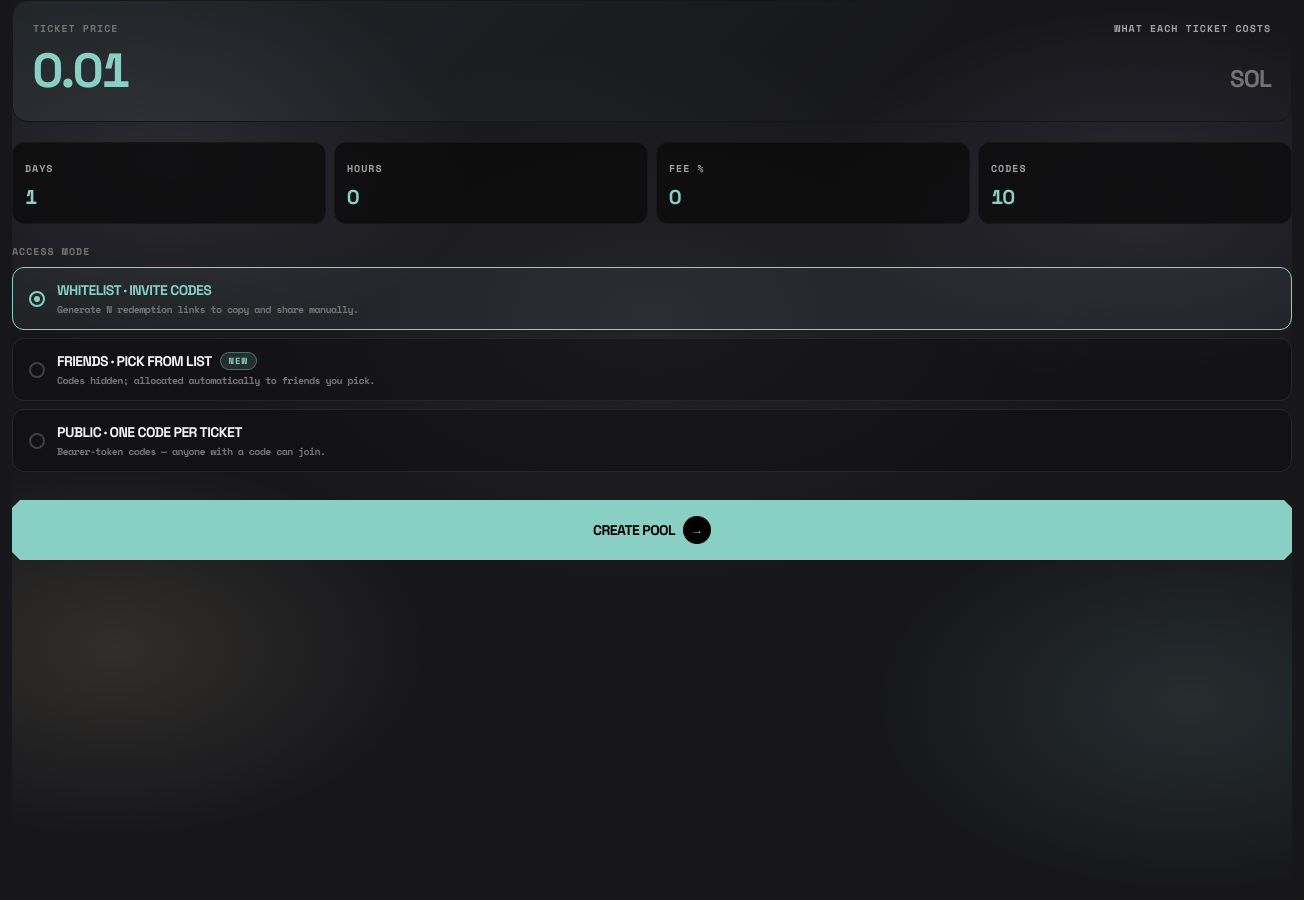
Test: <CreatePoolForm /> › rejects ticket price <= 0
Type "0" into the number field labelled "Ticket price" at (628, 70), box [33, 40, 1222, 101]
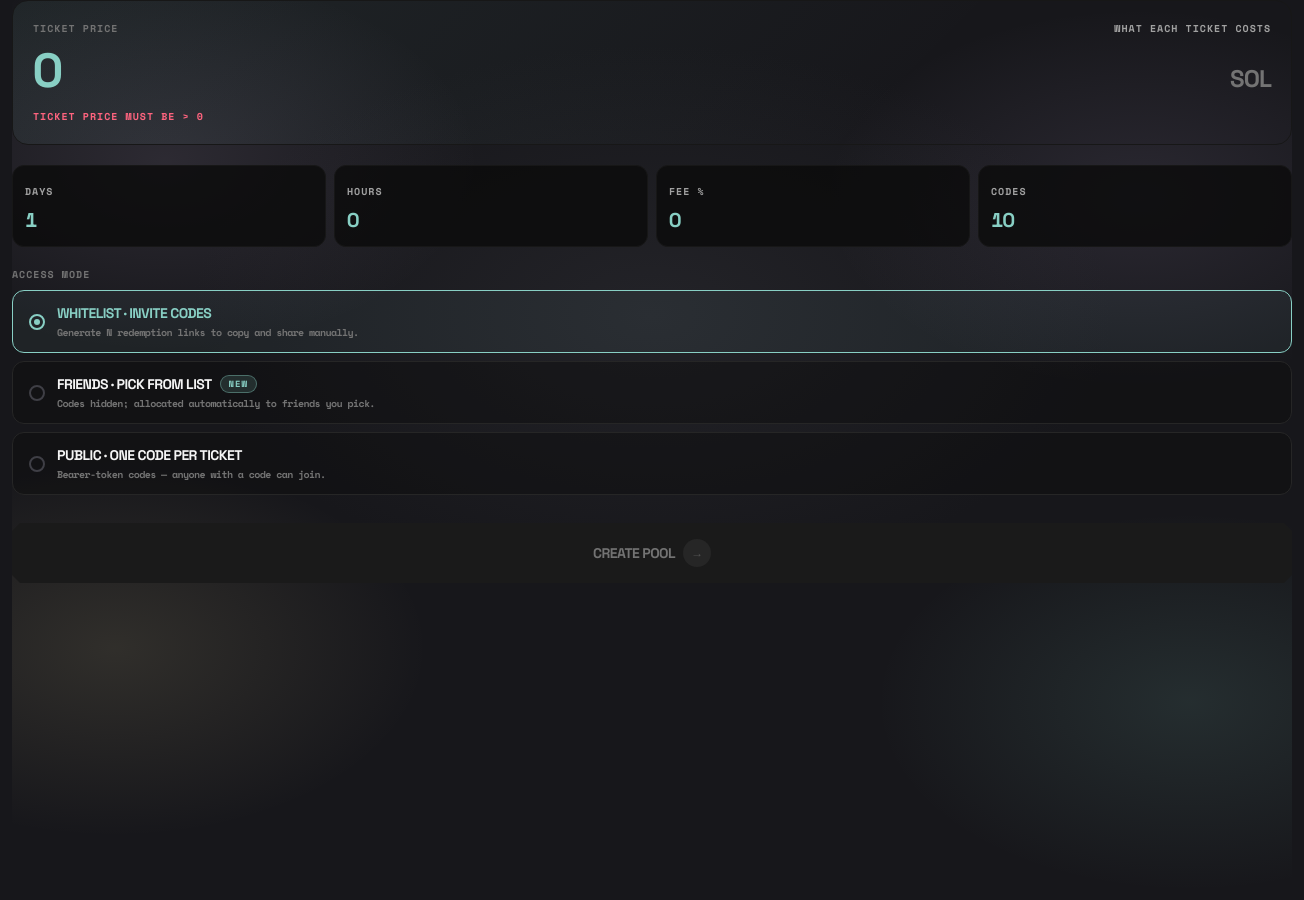
Expected: the text "Ticket price must be > 0" is shown, [33, 109, 204, 124]
